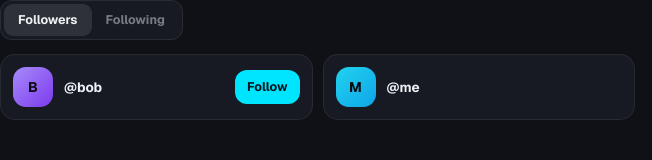
PeopleTab › follows a listed user and flips their button to Following
What coordinates should you click on to do the following:
click the button "Follow"
I would click on:
 (267, 87)
Its box is [235,70,300,104].
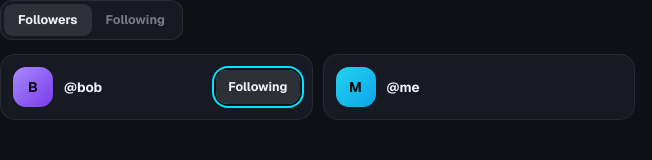
Check: the button "Following" is shown, box [216,70,300,104]
